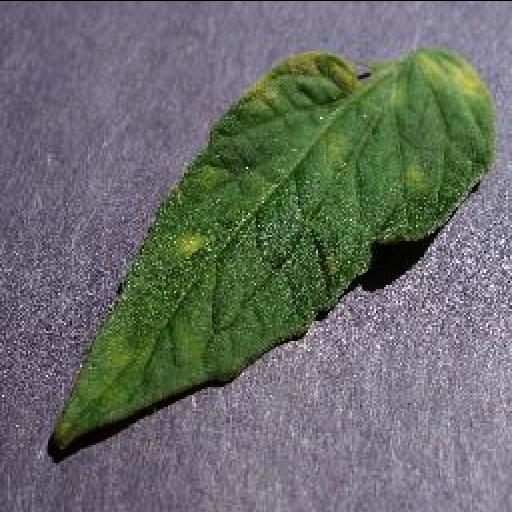disease_tomato: (48, 48, 494, 452)
